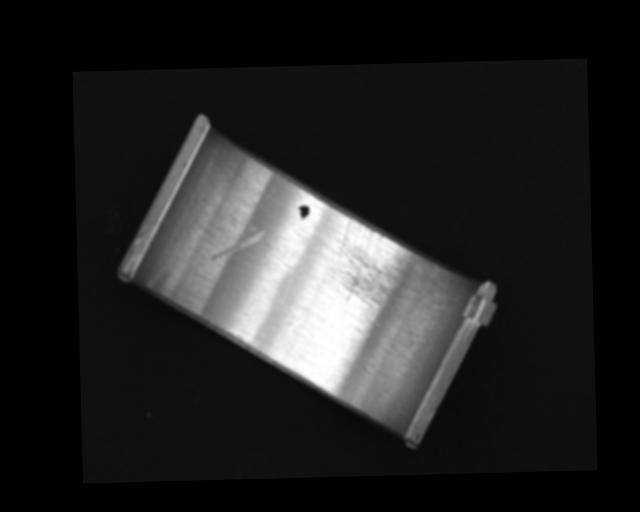blot: (298, 204, 310, 220)
nick: (210, 222, 266, 260), (257, 186, 279, 252)
scratch: (326, 213, 431, 309)
